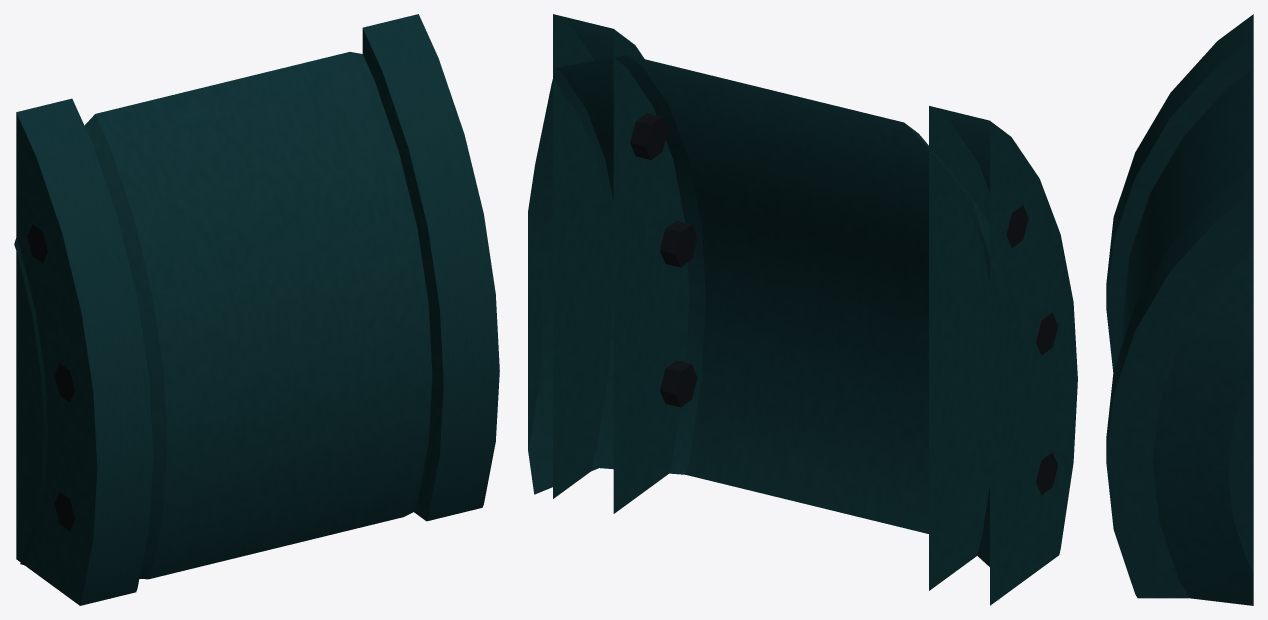
File: cell_31.obj
3 renders of one model, left to right at view 1: azimuth 30°, elevation 25°; view 2: azimuth 150°, elevation 25°; view 3: azimuth 270°, elevation 25°, orthographic. The views are drawn at different scales.
Visible parts, largest first — view 1: cell_31; view 2: cell_31; view 3: cell_31.
Part boxes in pixels (left/top/right/bottom): cell_31: left=14, top=14, right=499, bottom=605; cell_31: left=528, top=14, right=1077, bottom=605; cell_31: left=1106, top=14, right=1253, bottom=605.
Bounding box in the file's own units: 0.965 × 0.9642 × 0.3172.
